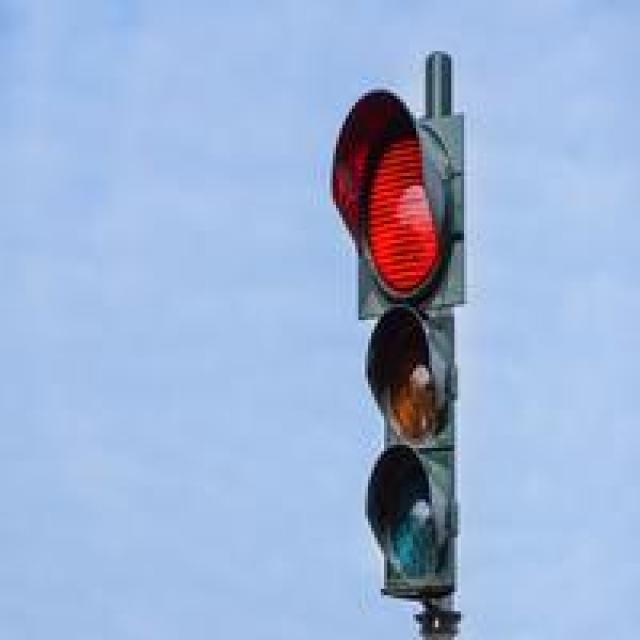red_light: (287, 127, 493, 311)
